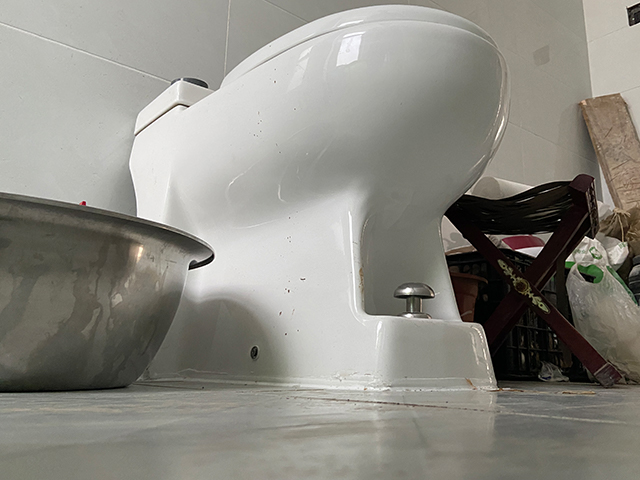closestool: (127, 3, 514, 393)
stool: (443, 173, 622, 389)
